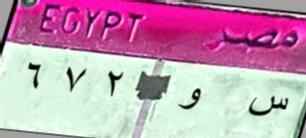2: (102, 65, 128, 102)
6: (24, 57, 48, 99)
7: (62, 64, 89, 100)
seen: (245, 86, 290, 123)
waw: (178, 84, 203, 115)
